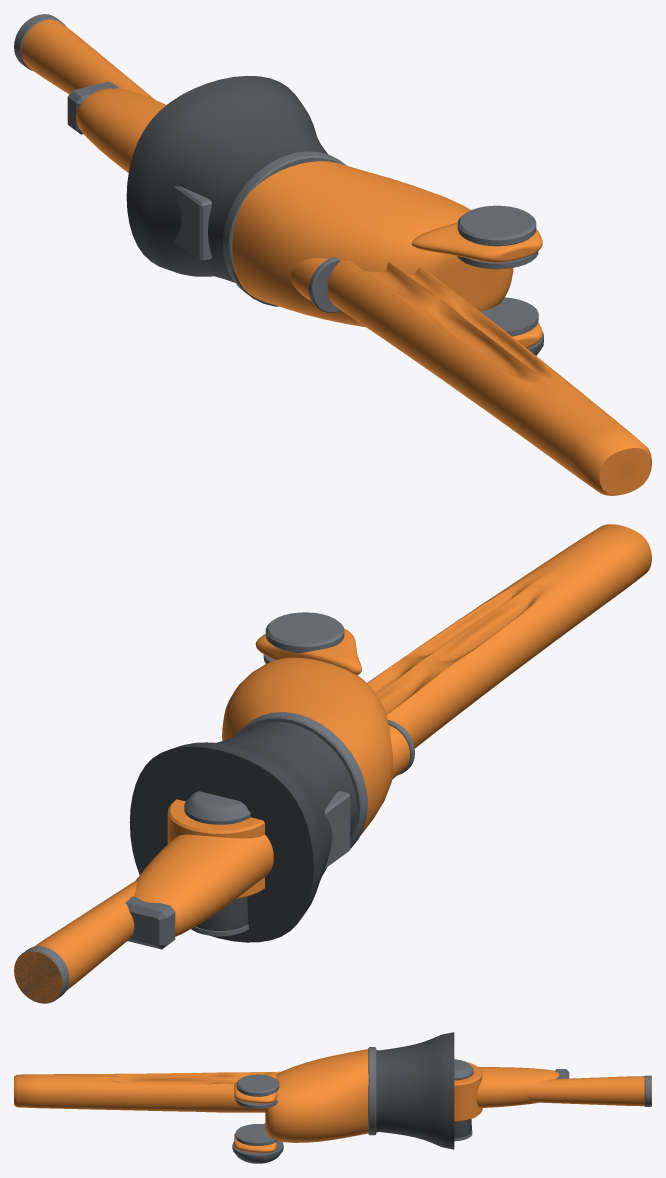
File: robot.glb
3 renders of one model, top to bottom at view 1: azimuth 30°, elevation 25°; view 2: azimuth 150°, elevation 25°; view 3: azimuth 270°, elevation 25°, orthographic. The views are drawn at different scales.
Parts seen in each view (by area): view 1: A1, A2, ROOT, A3, A4; view 2: ROOT, A2, A1, A3, A4, A5; view 3: A1, A2, ROOT, A4, A3, A5.
Part boxes in pixels (x1,y1,x2,y2): A1: [232, 161, 543, 355]; A2: [327, 260, 651, 495]; ROOT: [126, 75, 346, 306]; A3: [67, 81, 339, 312]; A4: [14, 14, 154, 99]; ROOT: [129, 712, 367, 942]; A2: [167, 524, 651, 898]; A1: [222, 612, 392, 835]; A3: [125, 720, 414, 949]; A4: [14, 880, 136, 1003]; A5: [191, 896, 248, 936]; A1: [232, 1049, 368, 1163]; A2: [14, 1062, 482, 1121]; ROOT: [368, 1032, 454, 1149]; A4: [527, 1075, 651, 1106]; A3: [454, 1059, 569, 1107]; A5: [454, 1119, 472, 1141].
Bounding box in the file's own units: 0.4226 × 0.3317 × 1.87.
